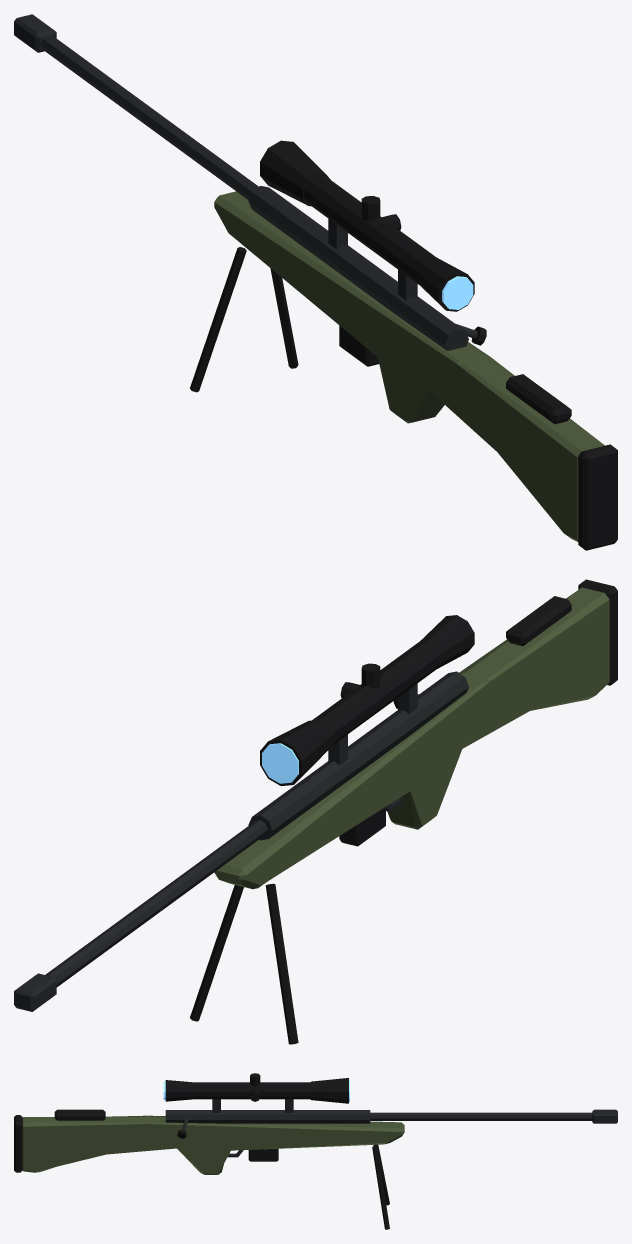
Rendered from sniper.glb.
3 renders of one model, top to bottom at view 1: azimuth 30°, elevation 25°; view 2: azimuth 150°, elevation 25°; view 3: azimuth 270°, elevation 25°, orthographic. The views are drawn at different scales.
Parts seen in each view (by area): view 1: sniper; view 2: sniper; view 3: sniper.
Boxes of the visible parts, x1=… form: sniper: x1=14, y1=14, x2=617, y2=550; sniper: x1=14, y1=579, x2=617, y2=1044; sniper: x1=14, y1=1073, x2=617, y2=1229.
Bounding box in the file's own units: 0.1504 × 0.3668 × 1.41.
